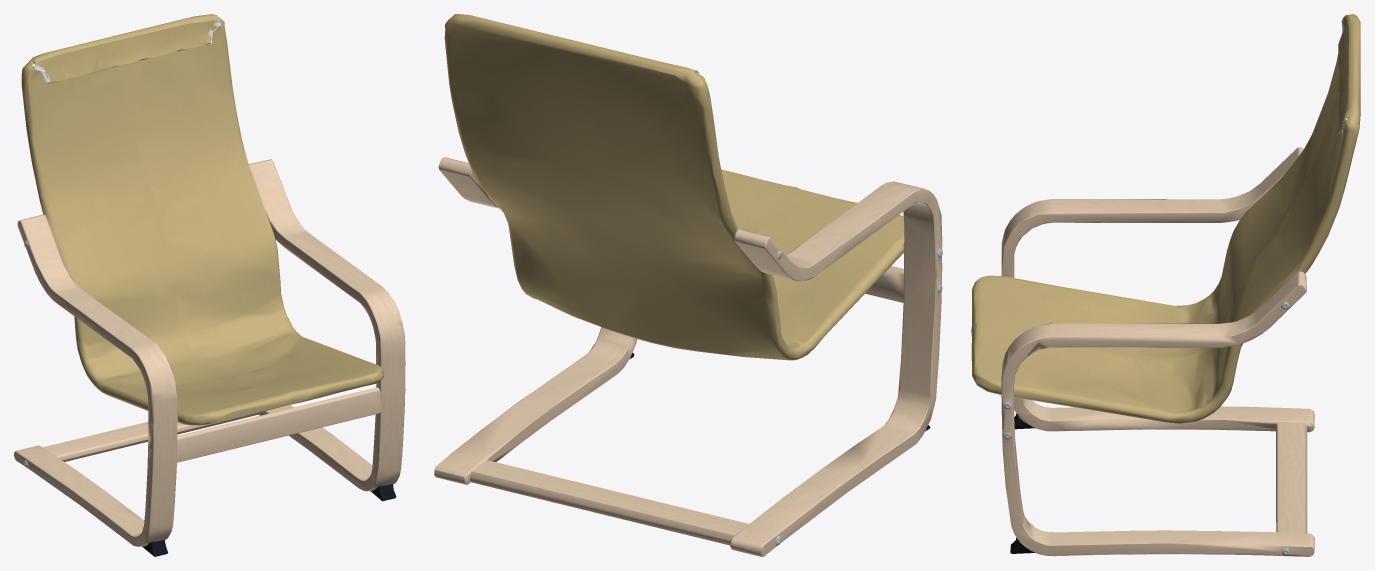
The model's file is 24 - POÄNG Children_s armchair frame - birch veneer.glb.
3 views of the same model, side by side, from view 1: azimuth 30°, elevation 25°; view 2: azimuth 150°, elevation 25°; view 3: azimuth 270°, elevation 25° (orthographic). The views are drawn at different scales.
Visible parts, largest first — view 1: ProcessedMeshNode; view 2: ProcessedMeshNode; view 3: ProcessedMeshNode.
Boxes of the visible parts, x1,y1,x2,y2 form: ProcessedMeshNode: [14, 14, 405, 556]; ProcessedMeshNode: [434, 14, 942, 556]; ProcessedMeshNode: [971, 14, 1360, 556].
Bounding box in the file's own units: 0.4783 × 0.6825 × 0.5642.
2 materials, 2 textured.
